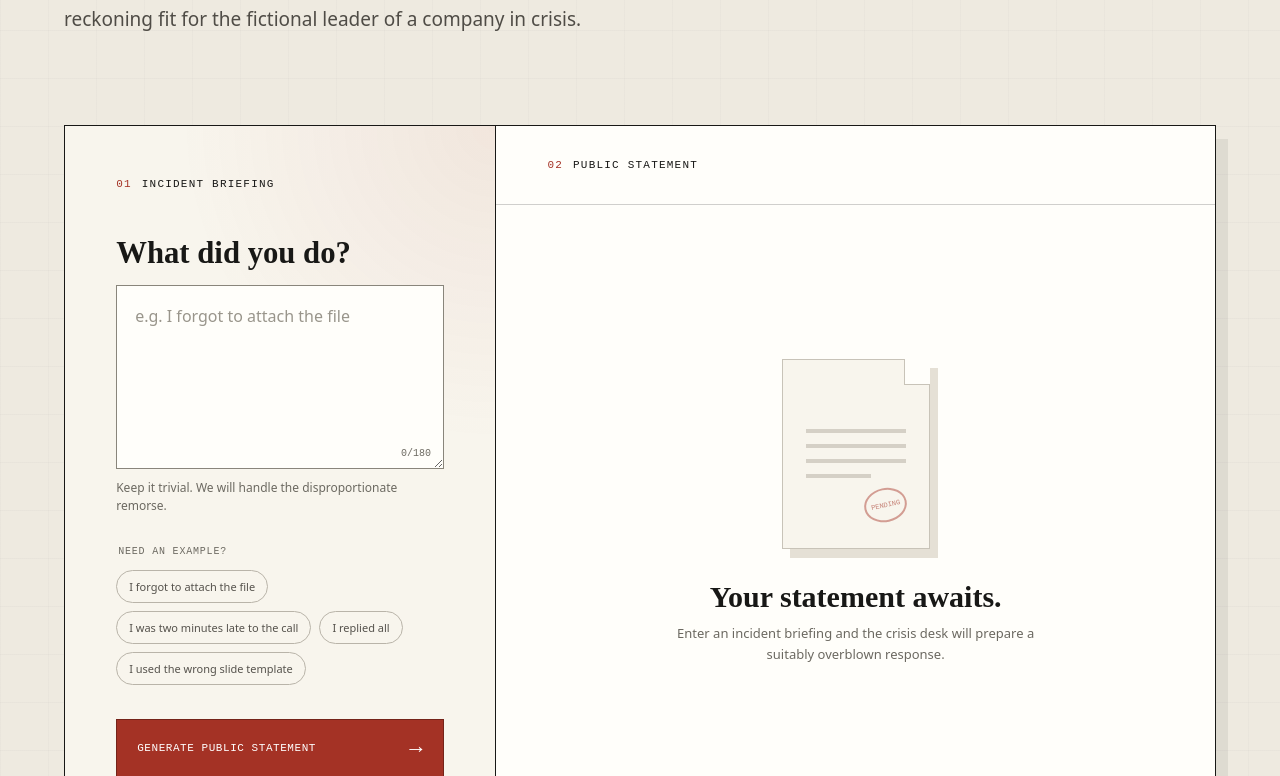
it: App › renders a validated AI response when the Worker succeeds
The image size is (1280, 776).
(page scrolled)
Type "I misplaced the agenda" into the text box labelled "What did you do?" at (280, 376), box [116,284,444,468]
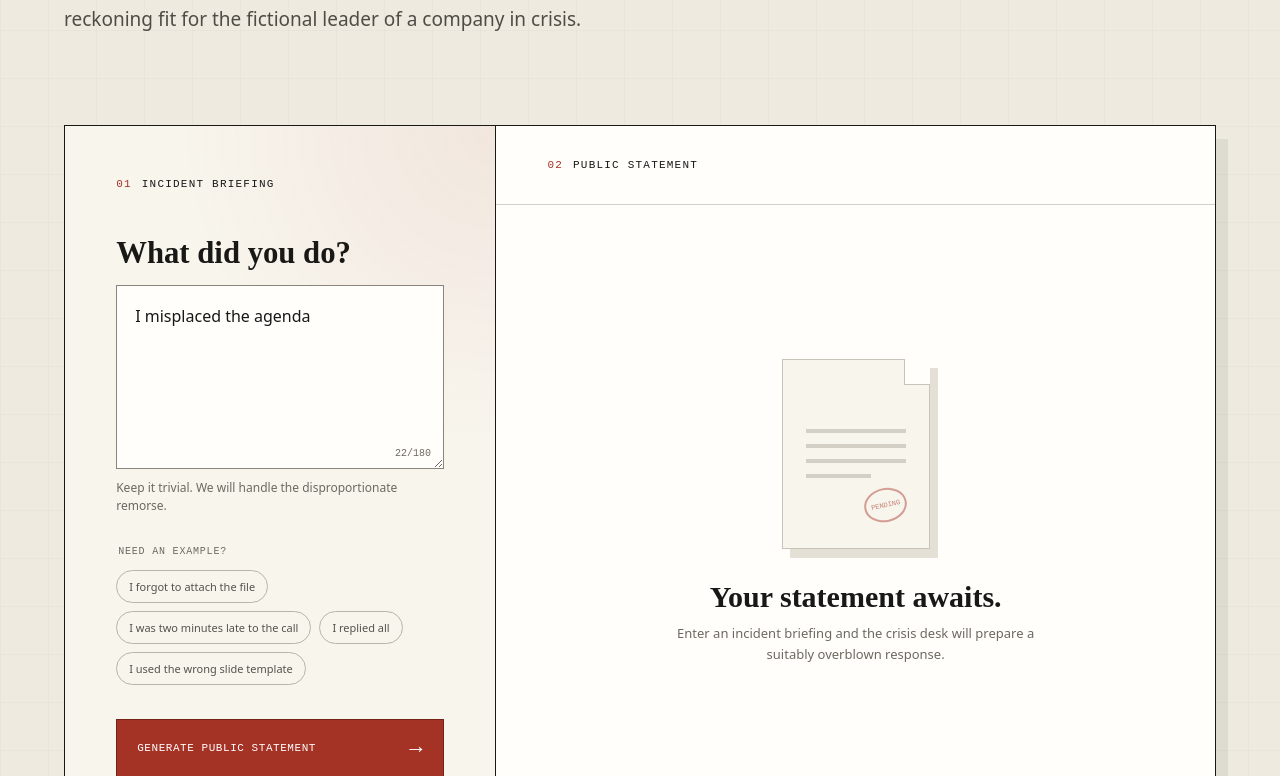
Click the button "Generate public statement →" at (280, 748), box [116,718,444,775]
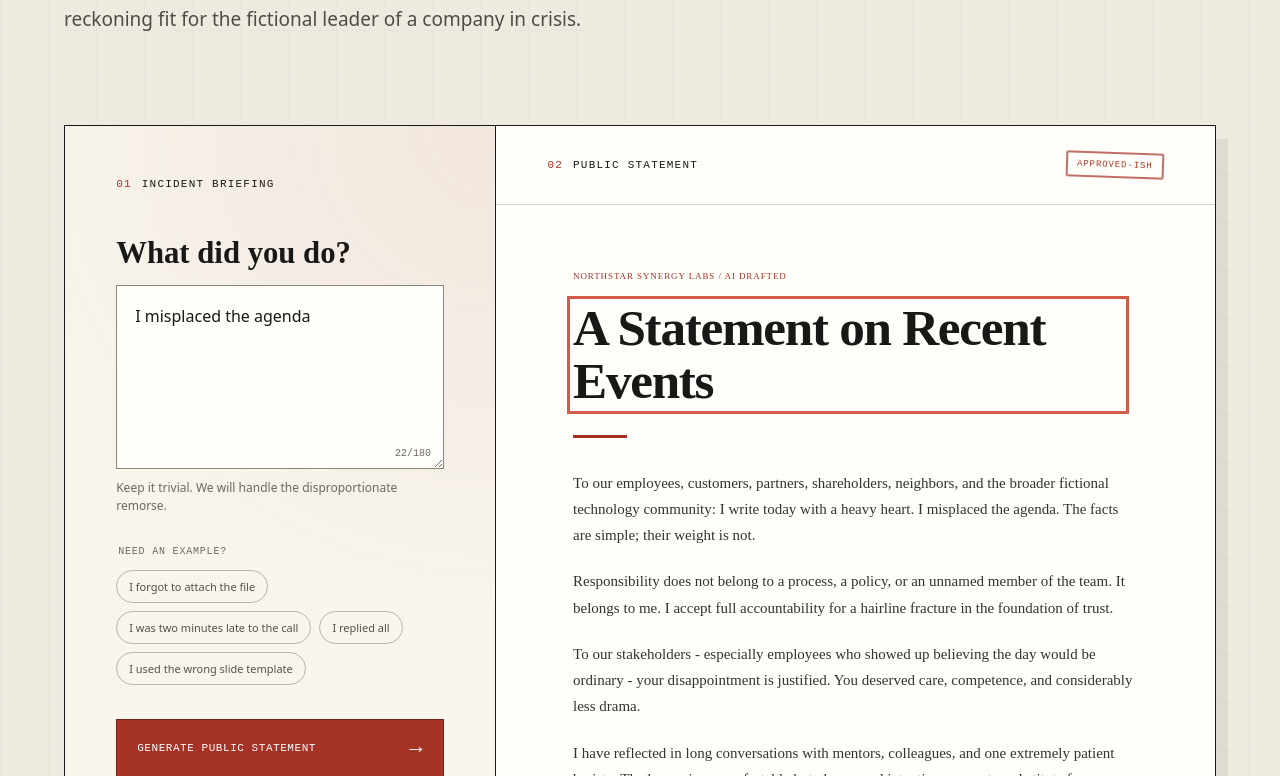
expect the text "I misplaced the agenda" is shown: met, box [573,475,1118,543]
expect the text "Northstar Synergy Labs / AI drafted" is shown: met, box [573,271,787,281]
